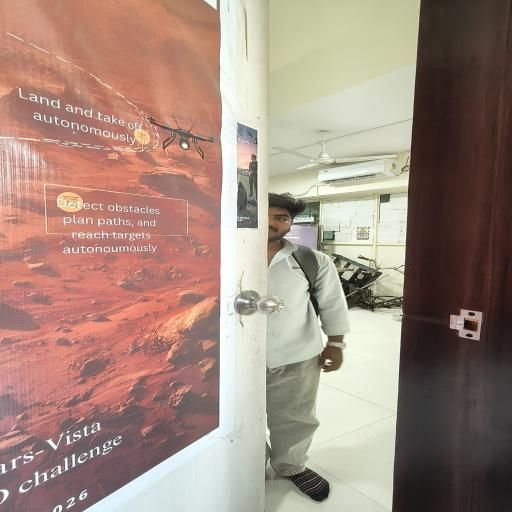survivor: (263, 192, 351, 504)
